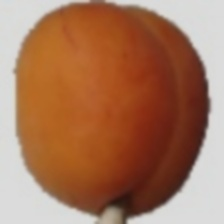apricot: (10, 25, 183, 220)
